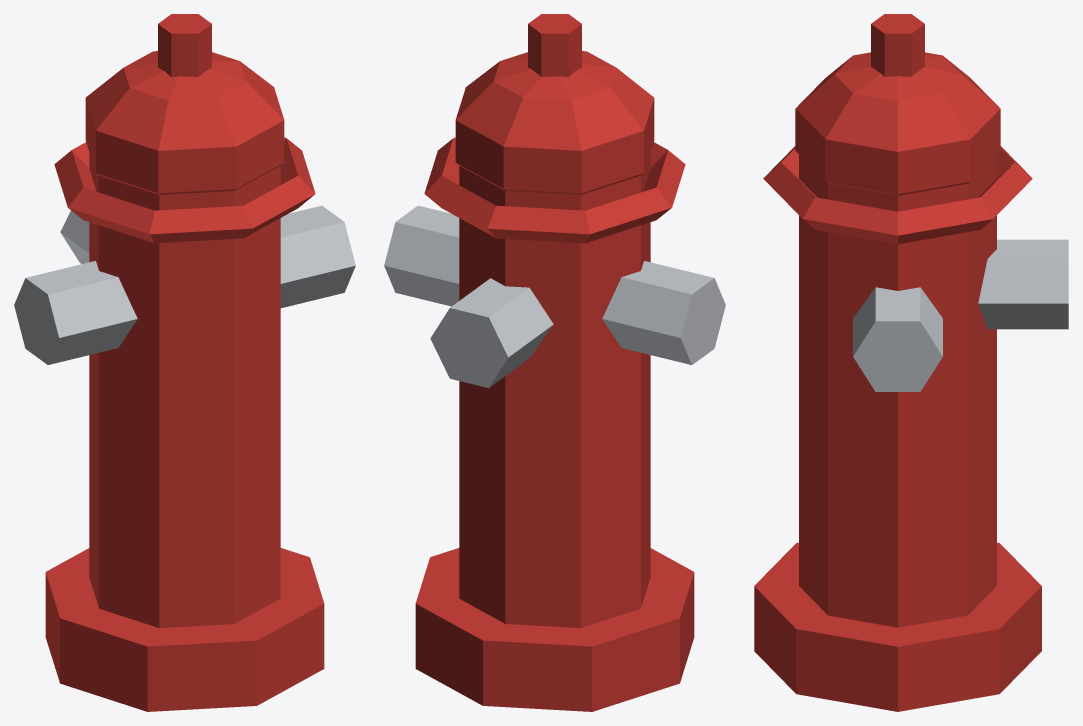
The model's file is Fire_Hydrant.glb.
The picture shows the model from 3 angles, left to right: view 1: azimuth 30°, elevation 25°; view 2: azimuth 150°, elevation 25°; view 3: azimuth 270°, elevation 25°; orthographic projection.
Visible parts, largest first — view 1: Fire_Hydrant; view 2: Fire_Hydrant; view 3: Fire_Hydrant.
Part boxes in pixels (x1,y1,x2,y2): Fire_Hydrant: (14, 14, 355, 711); Fire_Hydrant: (384, 14, 725, 711); Fire_Hydrant: (754, 14, 1068, 711).
Bounding box in the file's own units: 0.38 × 0.77 × 0.35.
Materials: 1 (1 with a texture image).
